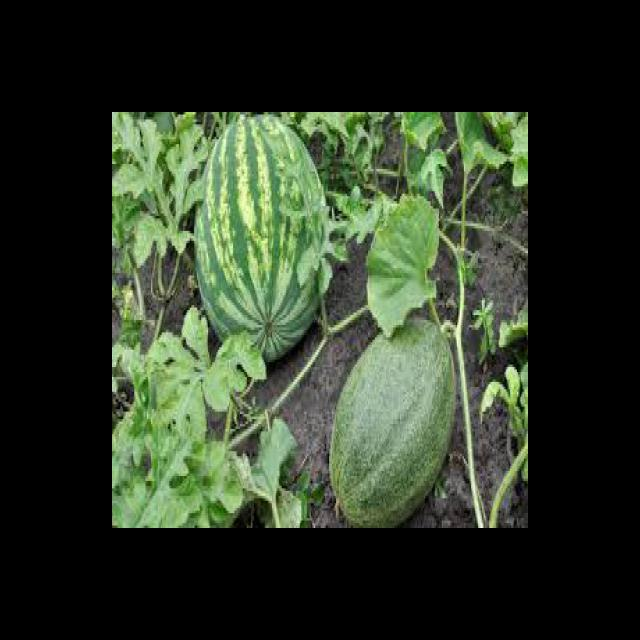watermelon: (193, 115, 330, 362), (328, 319, 457, 528)
